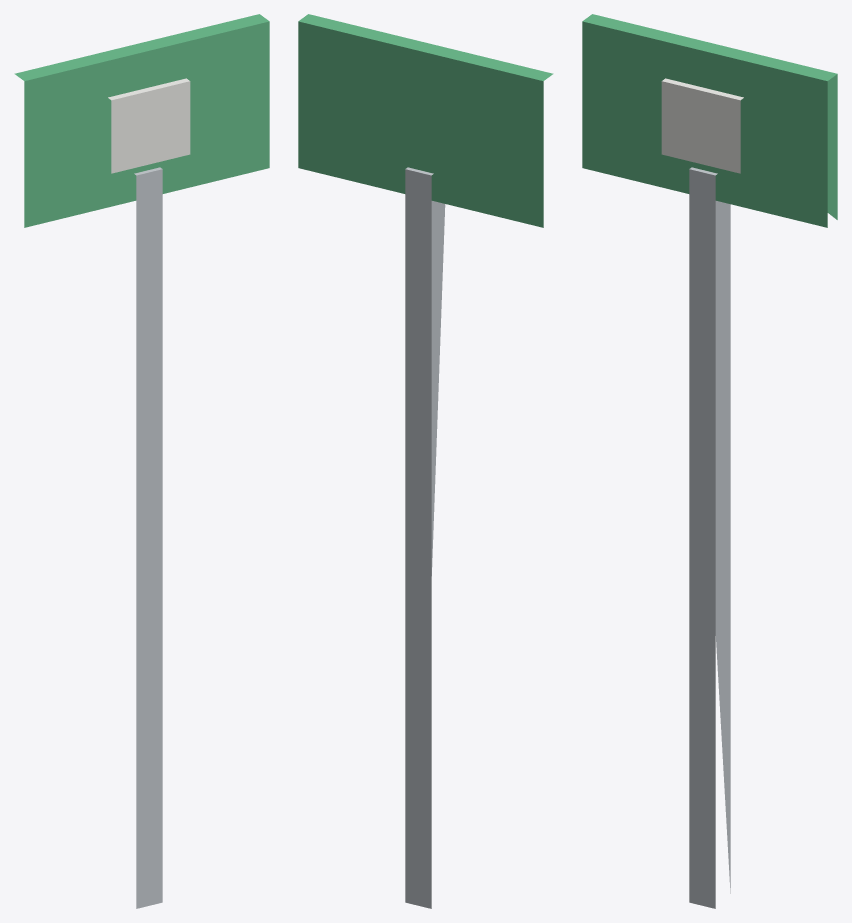
Rendered from exit-sign.glb.
3 renders of one model, left to right at view 1: azimuth 30°, elevation 25°; view 2: azimuth 150°, elevation 25°; view 3: azimuth 330°, elevation 25°, orthographic.
Bounding box in the file's own units: 0.56 × 1.86 × 0.065.
